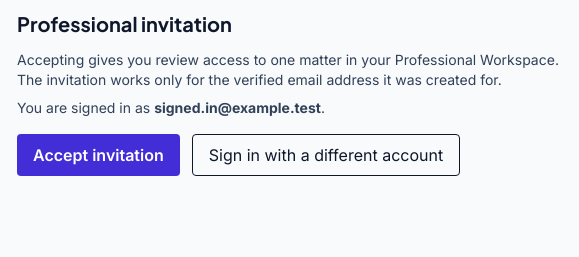
Test: Stage 10 slice 8: AcceptInvitation › 401 shows the signin message
Click the button "Accept invitation" at (98, 155), box x1=17 y1=134 x2=180 y2=176
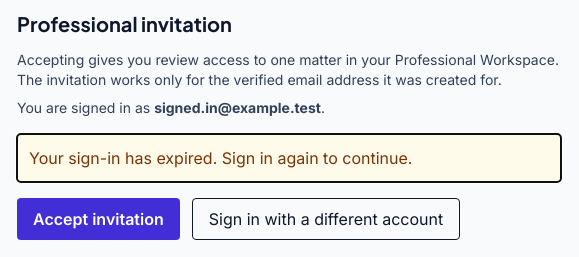
Result: the message reads "Your sign-in has expired. Sign in again to continue." at x1=29 y1=148 x2=412 y2=168
